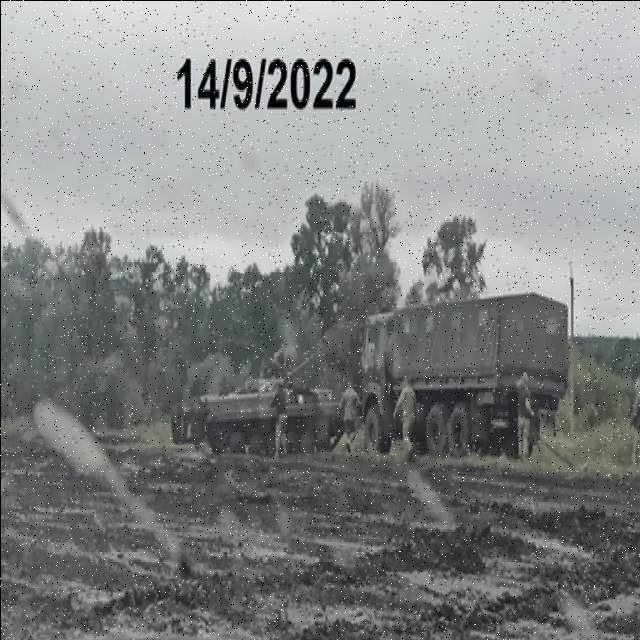APC-IFV: (180, 351, 344, 471)
TRUCK: (360, 298, 565, 460)
